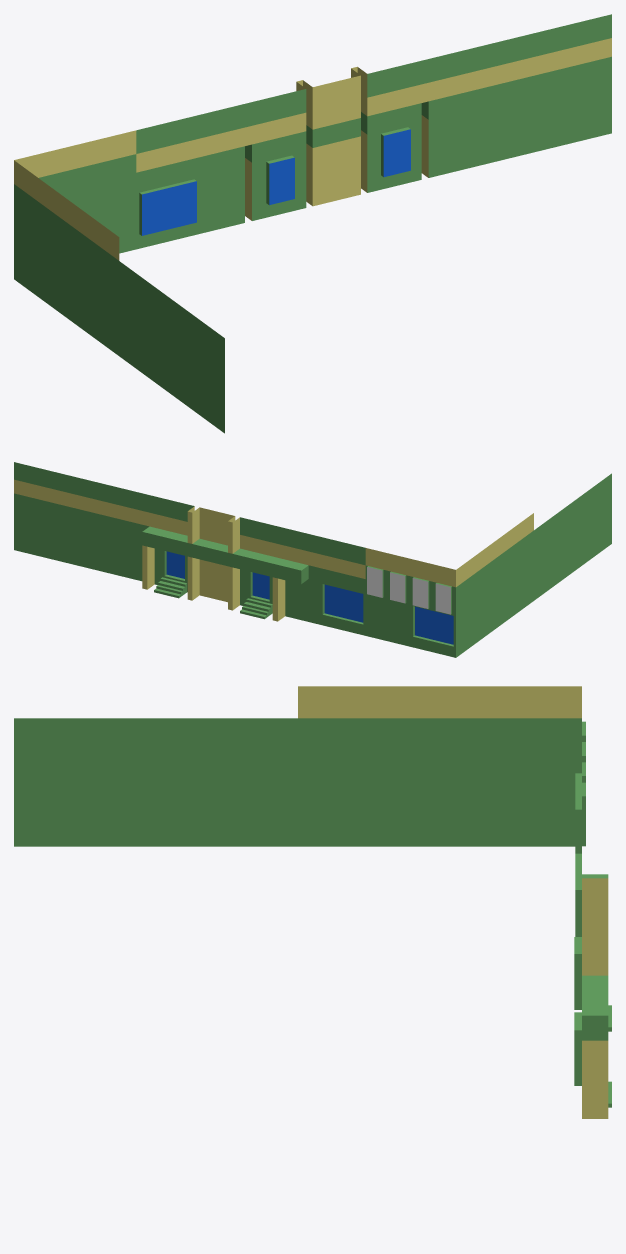
Rendered from Loja_CerGrad.fbx.
The picture shows the model from 3 angles, top to bottom: view 1: azimuth 30°, elevation 25°; view 2: azimuth 150°, elevation 25°; view 3: azimuth 270°, elevation 25°; orthographic projection. The views are drawn at different scales.
Parts seen in each view (by area): view 1: Cube.001; view 2: Cube.001; view 3: Cube.001.
Part boxes in pixels (box(x1,y1,x2,y2)): Cube.001: box(14, 14, 611, 433); Cube.001: box(14, 462, 611, 657); Cube.001: box(14, 686, 611, 1118).
Bounding box in the file's own units: 77.45 × 14.75 × 49.83.
